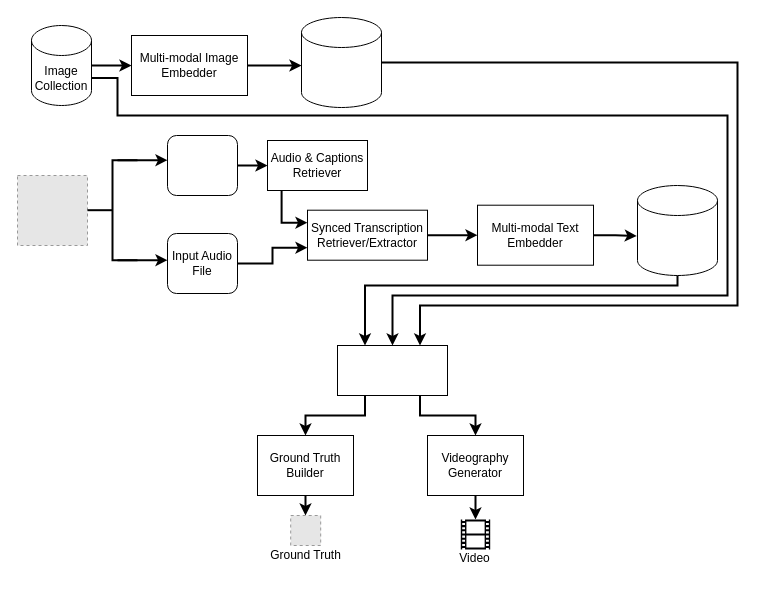
The diagram is 764 pixels wide and 591 high, and some of its shapes have lost their labels. Grey dashed boxes stand in for pictures. Here are the shapes that lost their labels. From the top down, the box of each, then its label:
(300, 16, 382, 108): Image Embeddings
(166, 134, 238, 196): Input YouTube URL
(636, 184, 718, 276): Text Embeddings
(336, 344, 448, 396): Text-to-Image Search + Retriever
